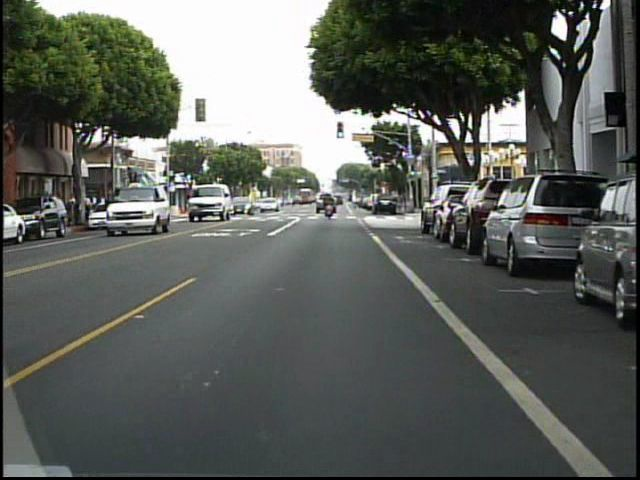person: (321, 191, 337, 220)
